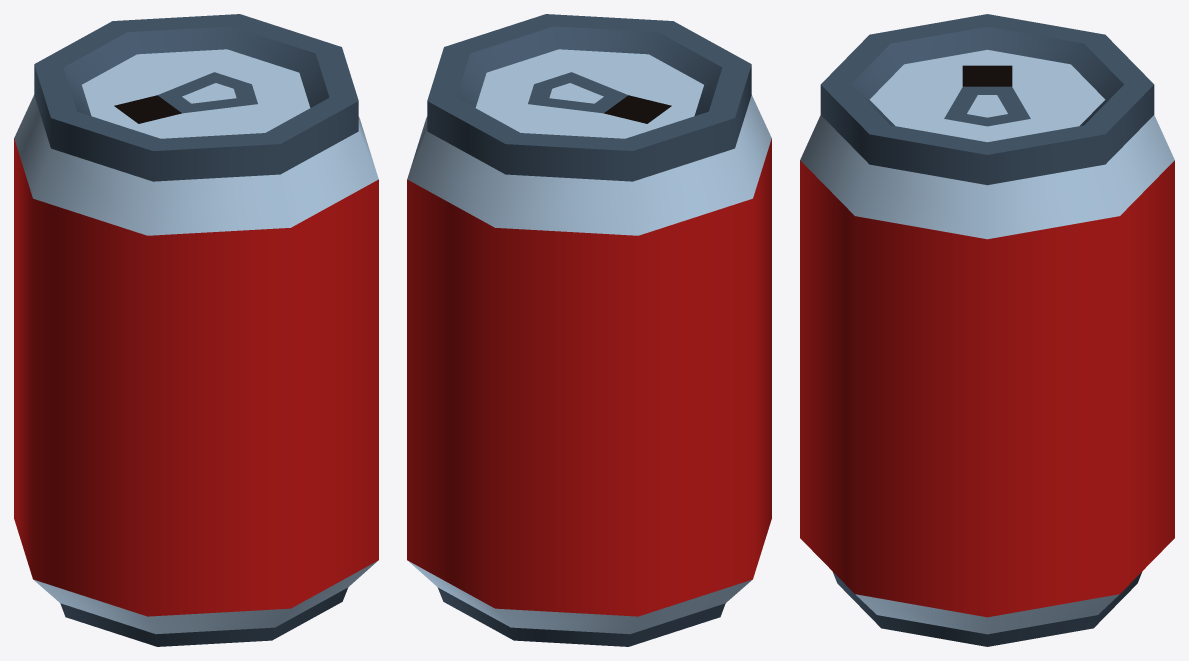
File: soda.obj
The picture shows the model from 3 angles, left to right: view 1: azimuth 30°, elevation 25°; view 2: azimuth 150°, elevation 25°; view 3: azimuth 270°, elevation 25°; orthographic projection.
Parts seen in each view (by area): view 1: soda; view 2: soda; view 3: soda.
Part boxes in pixels (box(x1,y1,x2,y2)): soda: box(14, 14, 378, 646); soda: box(407, 14, 771, 646); soda: box(800, 14, 1174, 646).
Bounding box in the file's own units: 0.2246 × 0.33 × 0.2246.
